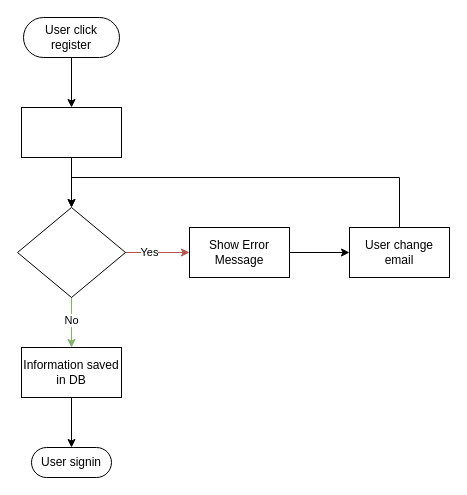
Image size: 467x495. Some labels were removed from this diagram. The shapes that lost their labels are listed below. From the top down, each one's centre as x and y in pixels, then its label:
(71,132): User fill form
(71,252): Email already in DB?
